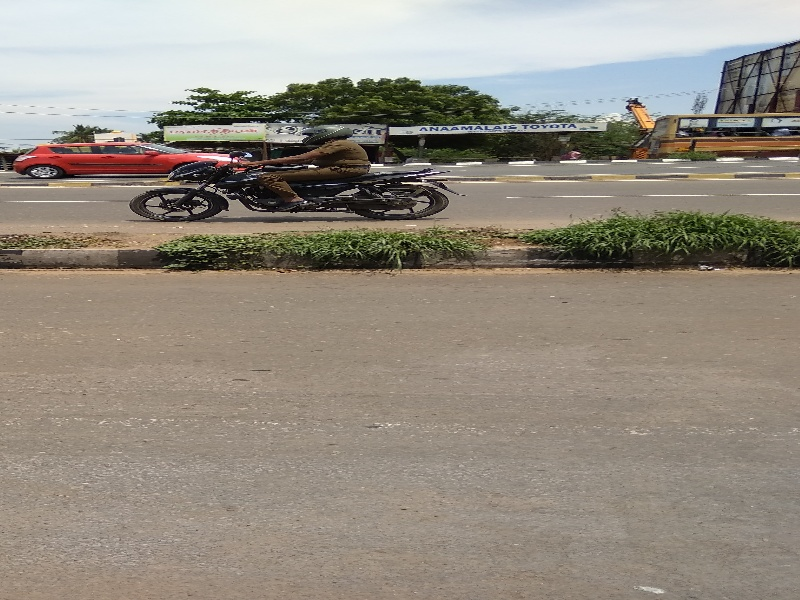biker: (120, 83, 490, 232)
helmet: (295, 115, 365, 154)
